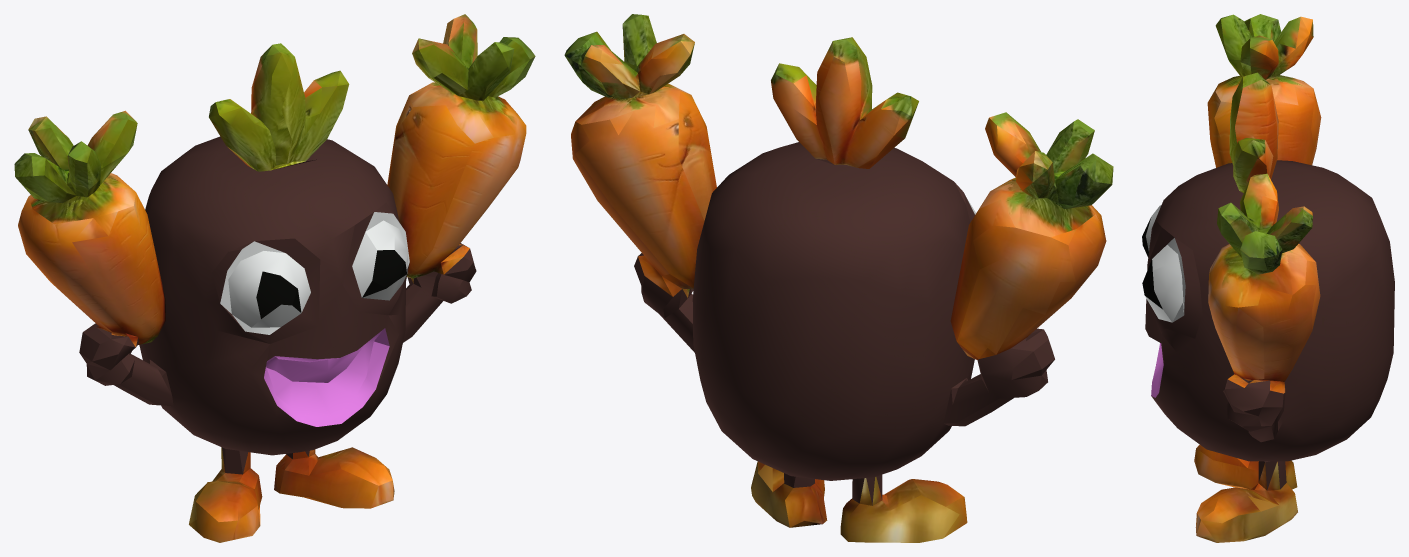
Rendered from creature.glb.
3 renders of one model, left to right at view 1: azimuth 30°, elevation 25°; view 2: azimuth 150°, elevation 25°; view 3: azimuth 270°, elevation 25°, orthographic. The views are drawn at different scales.
Parts seen in each view (by area): view 1: creature; view 2: creature; view 3: creature.
Boxes of the visible parts, left/top/right/bottom form: creature: left=14, top=14, right=535, bottom=542; creature: left=564, top=14, right=1113, bottom=542; creature: left=1142, top=14, right=1394, bottom=542.
Size of the model in its own units: 2.01 by 1.71 by 0.9155.
2 materials, 2 textured.
